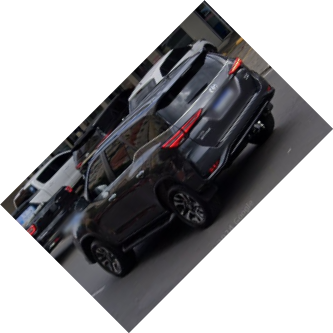car: (72, 53, 277, 279)
